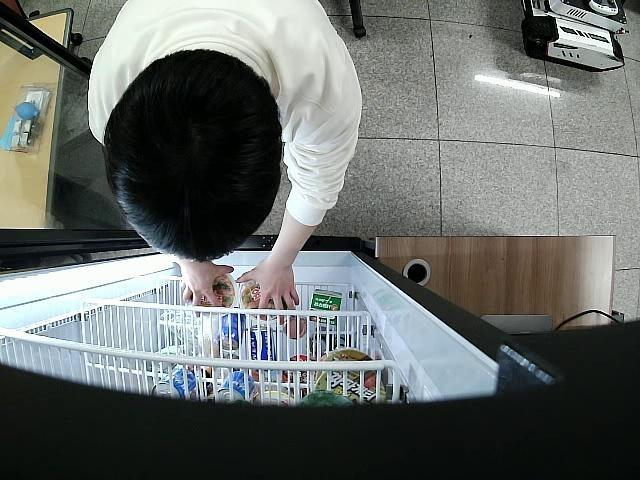09_yukGaeJang: (240, 274, 294, 322), (187, 272, 237, 316)
